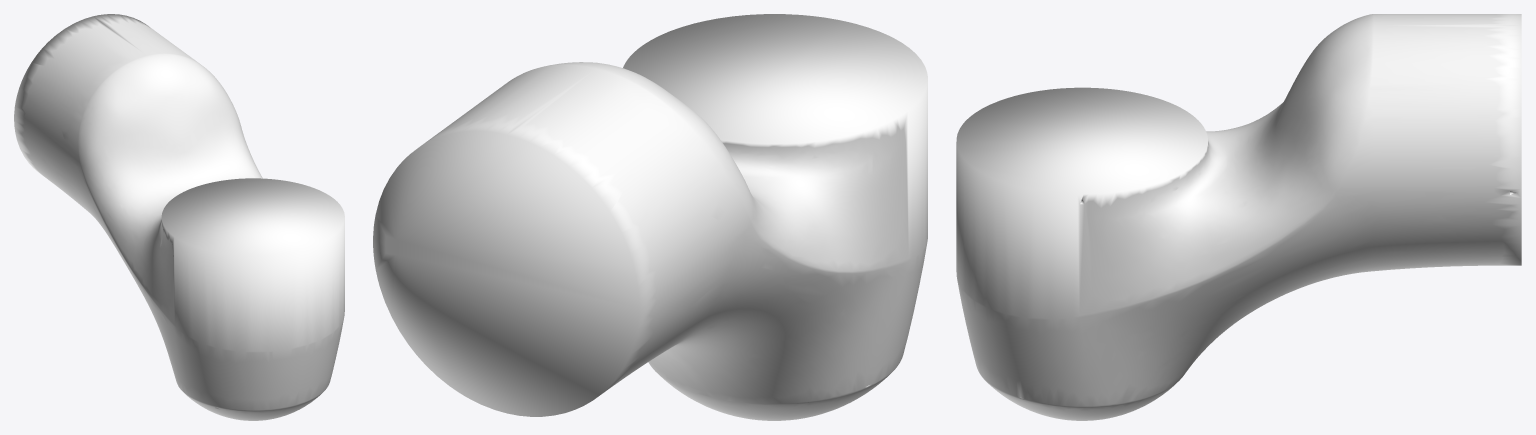
The picture shows the model from 3 angles, left to right: view 1: azimuth 30°, elevation 25°; view 2: azimuth 150°, elevation 25°; view 3: azimuth 270°, elevation 25°; orthographic projection. The views are drawn at different scales.
Visible parts, largest first — view 1: node0_Part__Feature.003; view 2: node0_Part__Feature.003; view 3: node0_Part__Feature.003.
Part boxes in pixels (box(x1,y1,x2,y2)): node0_Part__Feature.003: box(14, 14, 344, 420); node0_Part__Feature.003: box(373, 14, 927, 420); node0_Part__Feature.003: box(956, 14, 1521, 420).
Bounding box in the file's own units: 0.11 × 0.1844 × 0.247.
Materials: 1 (1 with a texture image).
